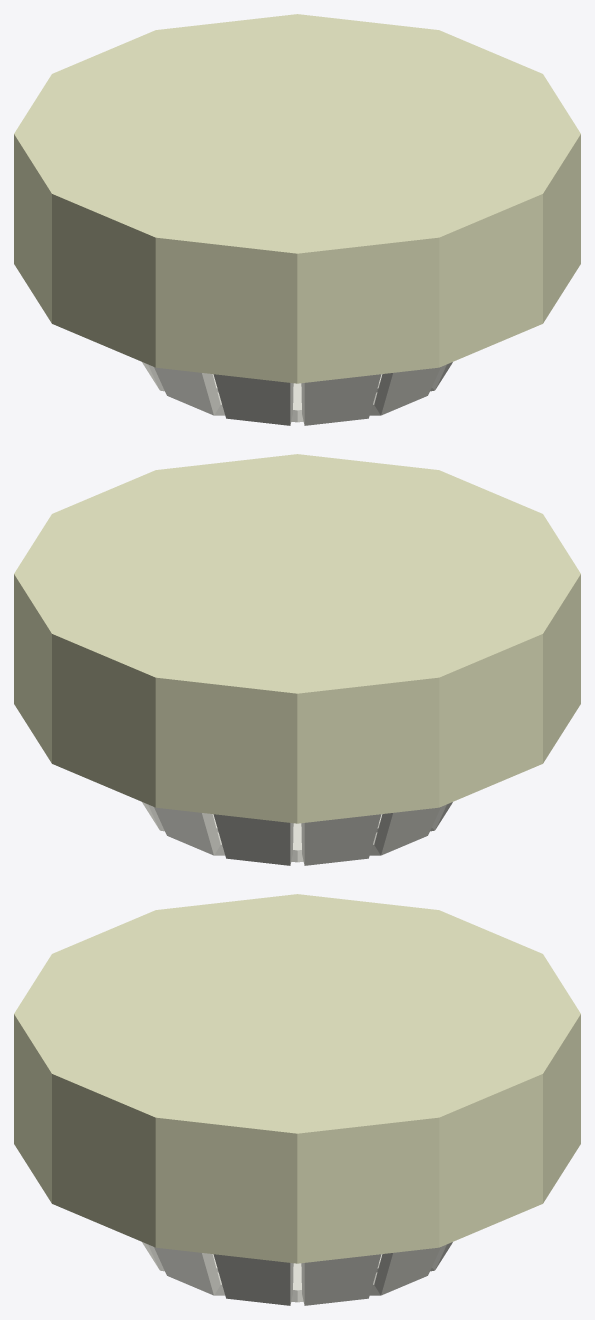
File: FireAlarm.fbx
3 views of the same model, one above another, from view 1: azimuth 30°, elevation 25°; view 2: azimuth 150°, elevation 25°; view 3: azimuth 270°, elevation 25° (orthographic).
Parts seen in each view (by area): view 1: Cylinder; view 2: Cylinder; view 3: Cylinder.
Boxes of the visible parts, left/top/right/bottom form: Cylinder: left=14, top=14, right=580, bottom=425; Cylinder: left=14, top=454, right=580, bottom=865; Cylinder: left=14, top=894, right=580, bottom=1305.
Size of the model in its own units: 43.66 by 21.29 by 43.66.
